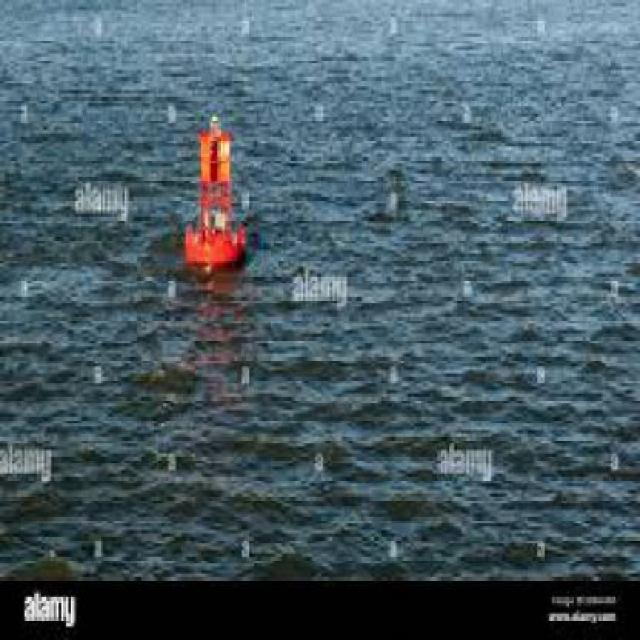buoy: (160, 112, 274, 264)
